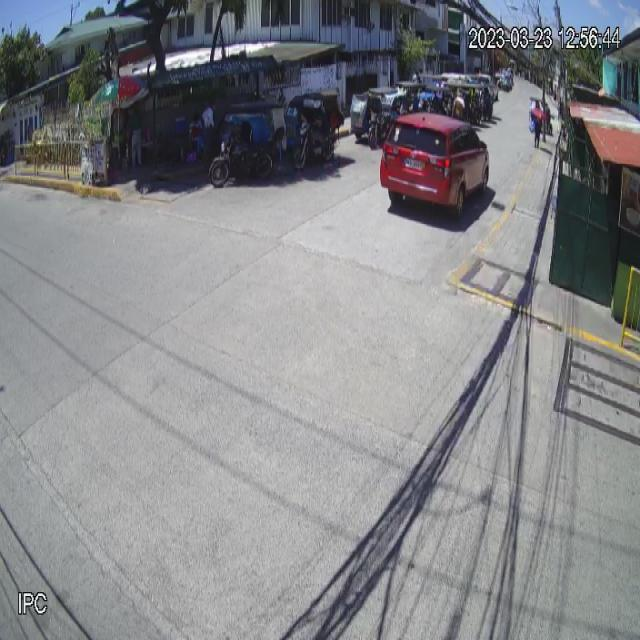Car: (379, 110, 491, 221)
